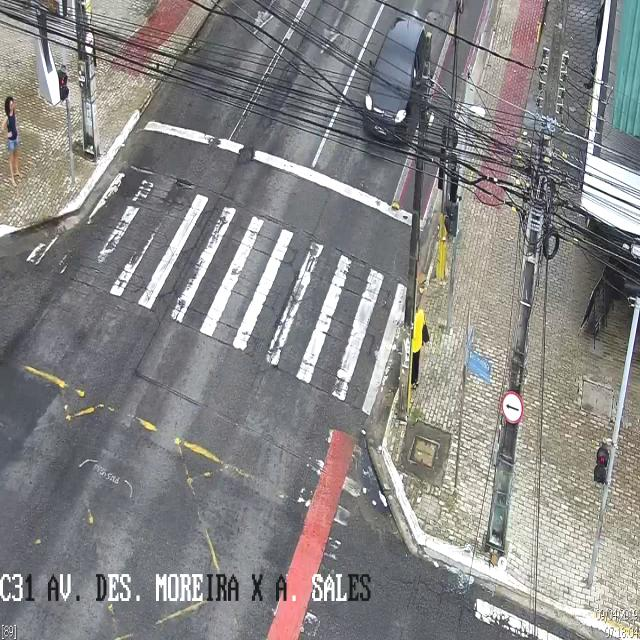Car: (362, 17, 426, 144)
